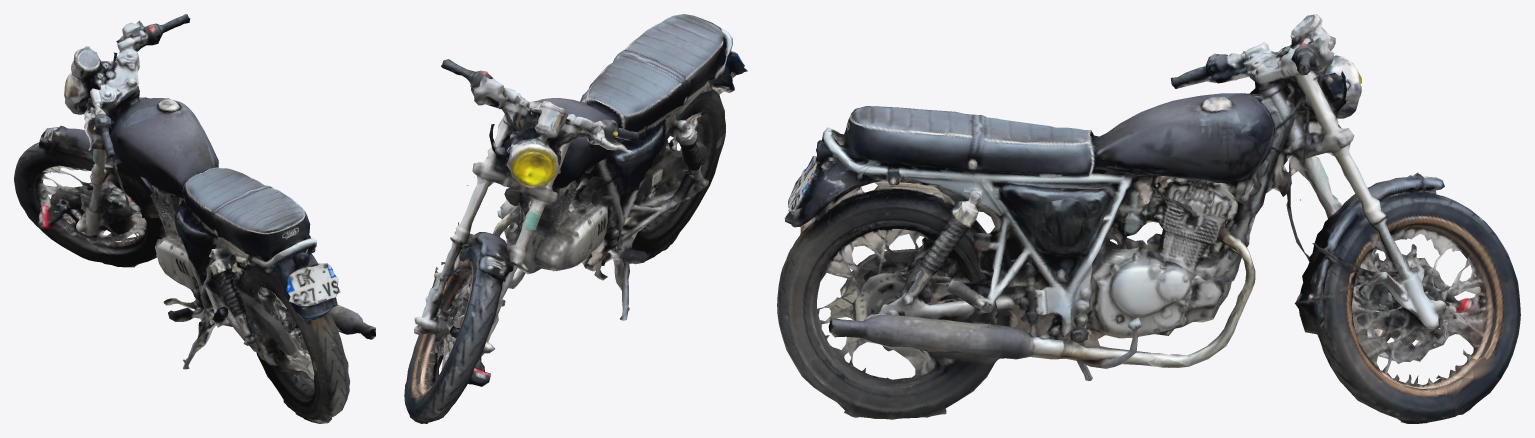
File: motorcycle.glb
3 views of the same model, side by side, from view 1: azimuth 30°, elevation 25°; view 2: azimuth 150°, elevation 25°; view 3: azimuth 270°, elevation 25° (orthographic). The views are drawn at different scales.
Visible parts, largest first — view 1: Object_2; view 2: Object_2; view 3: Object_2.
Part boxes in pixels (bbox=[...]): Object_2: bbox=[14, 14, 375, 423]; Object_2: bbox=[404, 14, 747, 423]; Object_2: bbox=[777, 14, 1520, 423].
Bounding box in the file's own units: 0.5606 × 0.9694 × 1.77.
1 material, 1 textured.
